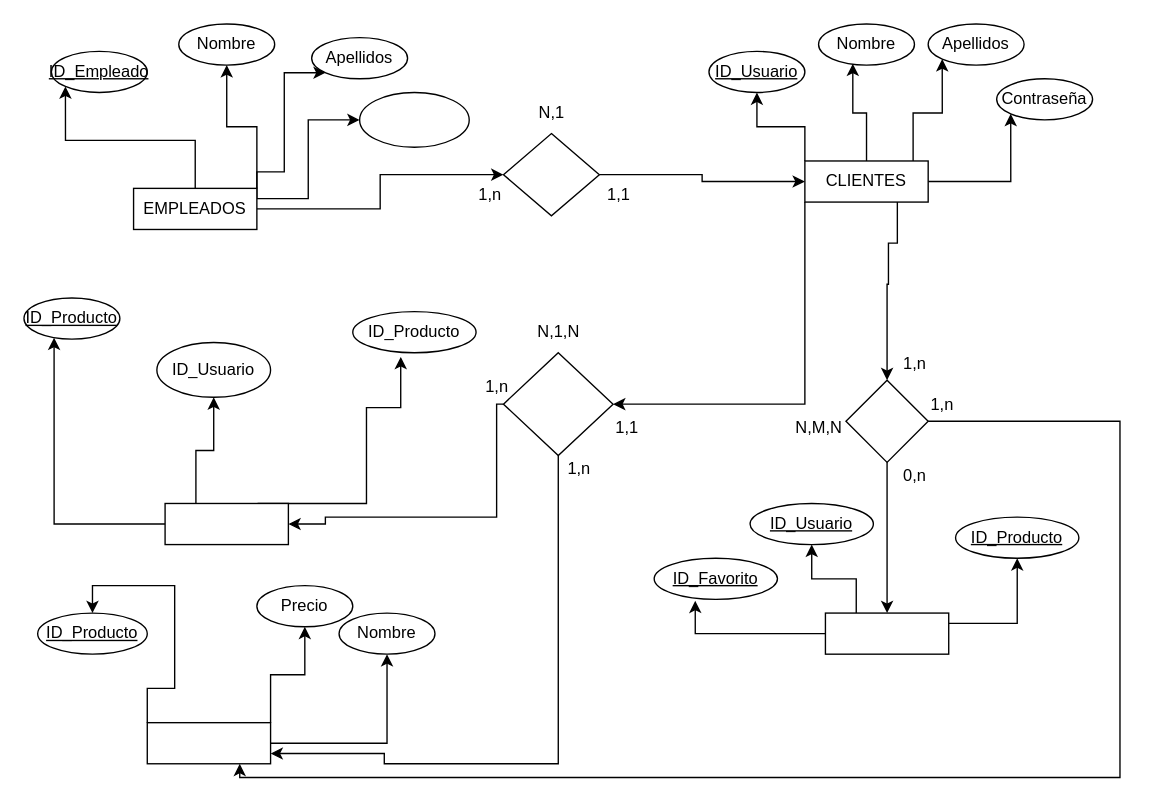
Image size: 1155x812. Some labels were removed from this diagram. Each missing label, with the centre of its shape:
ATENDER: pixel 550 174
AÑADIR: pixel 886 420
EsAdmin: pixel 413 119
FAVORITOS: pixel 886 633
PEDIDOS: pixel 226 523
PRODUCTO: pixel 208 742
REALIZAR: pixel 557 403
